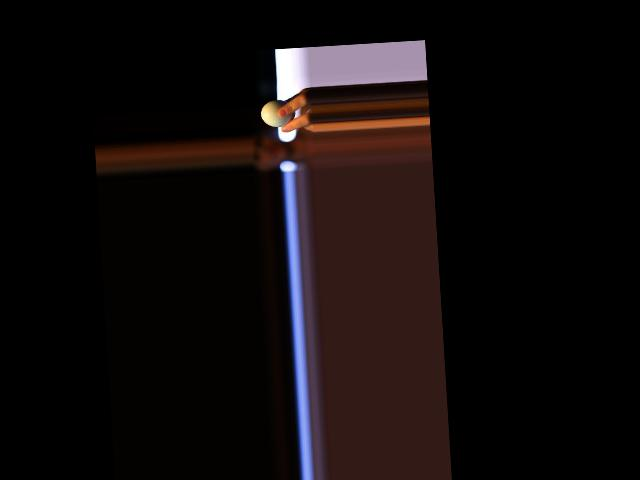egg: (260, 99, 296, 128)
